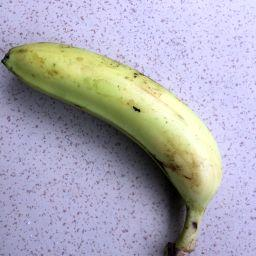Banana Ripe: (4, 40, 237, 256)
